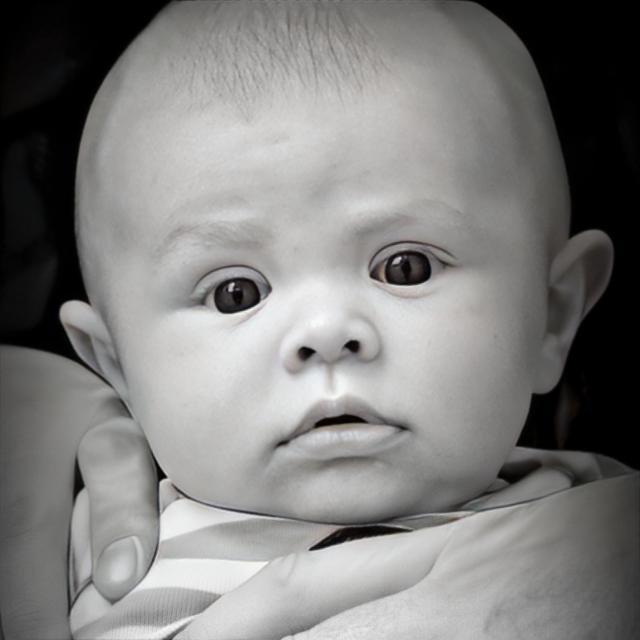fear: (72, 0, 547, 526)
